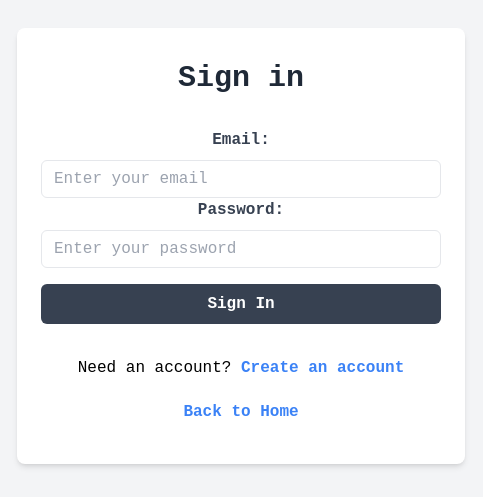
Test: Recipe_Finder › SigninForm › shows error message if credentials are invalid
Type "nonexistent@example.com" into the field named "email".
click(241, 179); type("nonexistent@example.com")  # box [41,160,441,198]
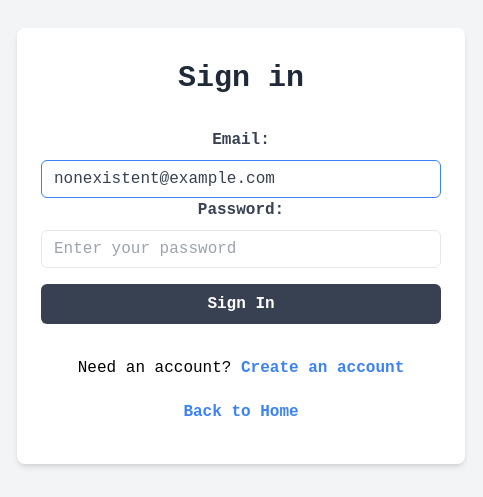
Type "wrongpassword" into the password field named "password".
click(241, 249); type("wrongpassword")  # box [41,230,441,268]
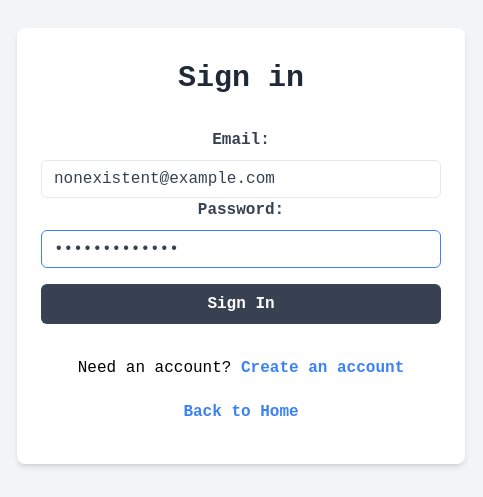
Click the button "Sign In".
click(241, 304)  # box [41,284,441,324]
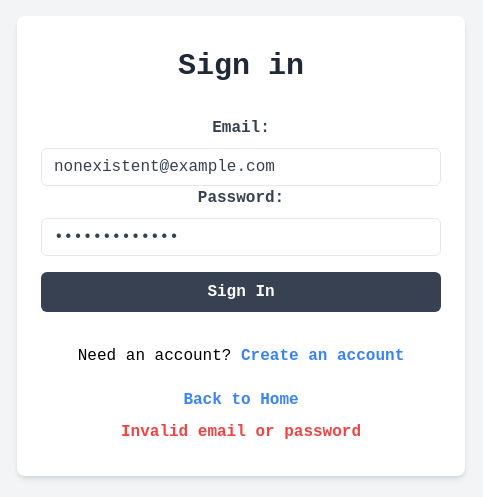
Result: the text "Invalid email or password" is shown at [121,423,361,441]
